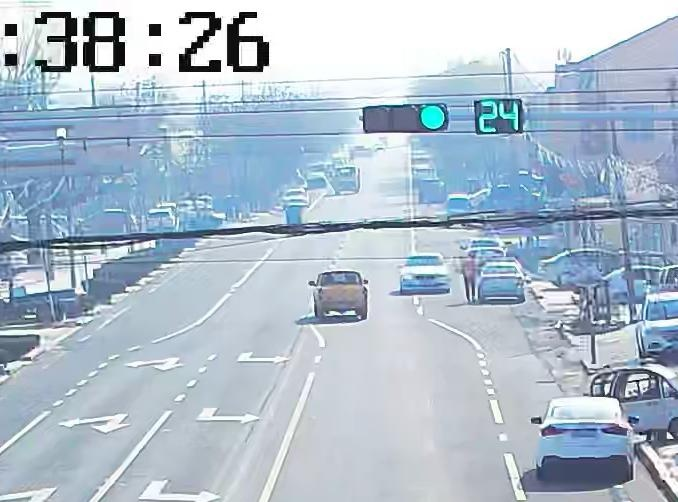green: (417, 105, 448, 132)
greentime: (476, 100, 520, 132)
